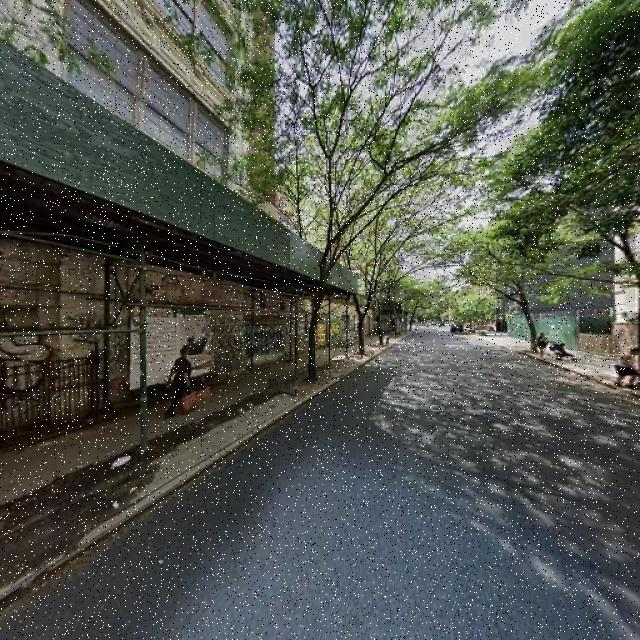Building: (1, 1, 275, 432), (619, 1, 640, 363)
